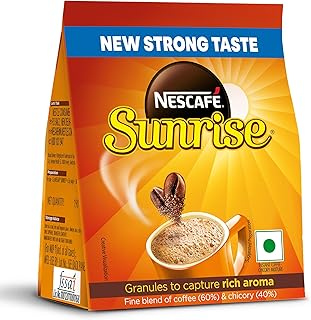Coffee: (36, 2, 311, 315)
